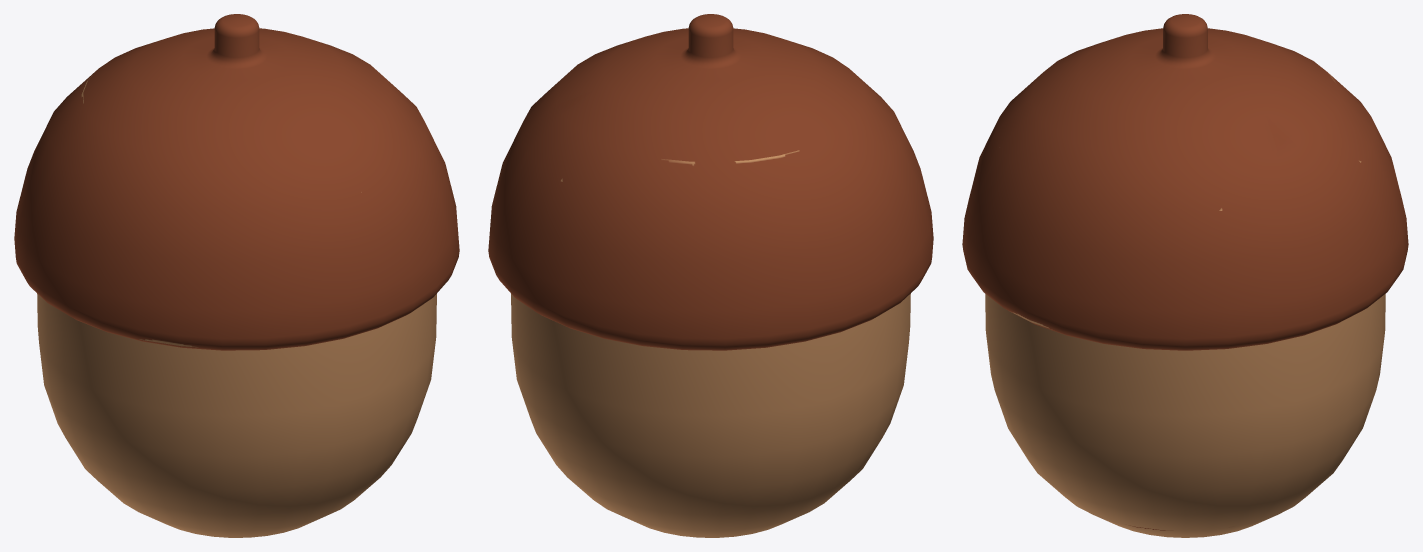
The model's file is dealapple.fbx.
3 renders of one model, left to right at view 1: azimuth 30°, elevation 25°; view 2: azimuth 150°, elevation 25°; view 3: azimuth 270°, elevation 25°, orthographic.
Parts seen in each view (by area): view 1: 球体.002; view 2: 球体.002; view 3: 球体.002.
Boxes of the visible parts, x1,y1,x2,y2 form: 球体.002: [14, 14, 459, 537]; 球体.002: [488, 14, 933, 537]; 球体.002: [962, 14, 1408, 537].
Size of the model in its own units: 59.9 by 75.34 by 59.9.
